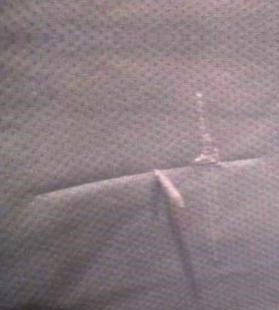snag: (143, 160, 197, 219)
